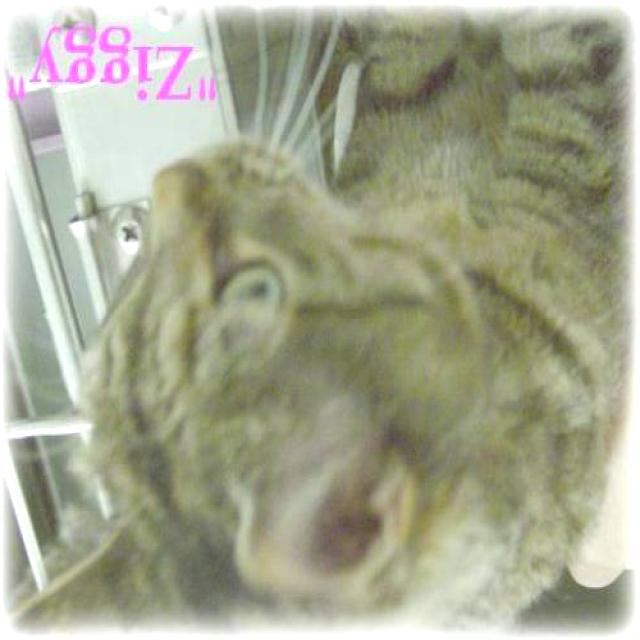Kucing: (15, 96, 614, 633)
